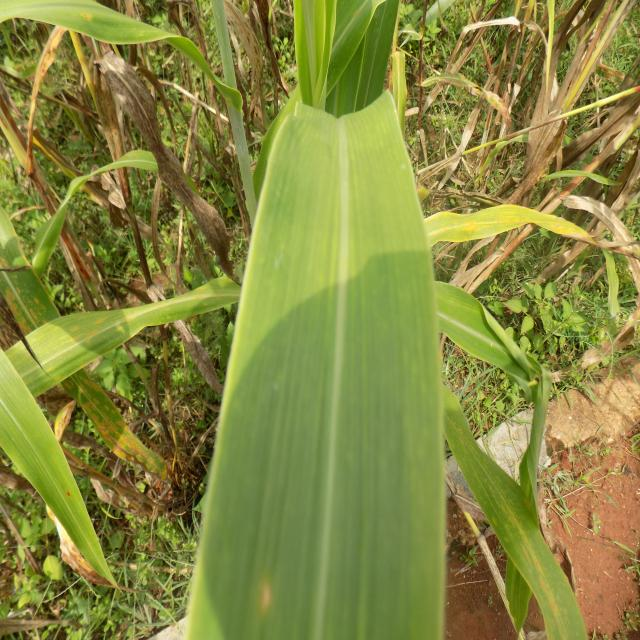millet_healthy: (189, 90, 450, 640)
